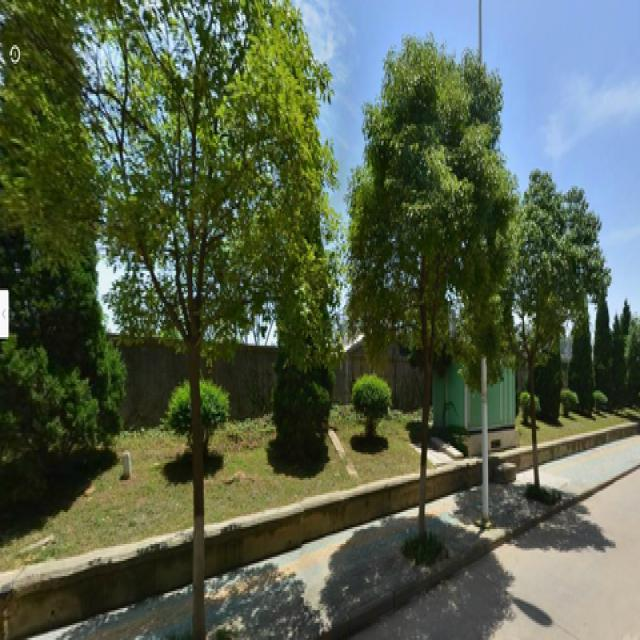cinn: (128, 11, 307, 620), (384, 42, 488, 584), (515, 182, 585, 488)
